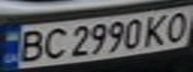0: (121, 16, 148, 51)
2: (66, 22, 93, 58)
9: (87, 20, 112, 56), (106, 19, 130, 53)
B: (12, 27, 48, 64)
C: (36, 26, 69, 61)
K: (139, 11, 172, 47)
O: (160, 8, 193, 43)
